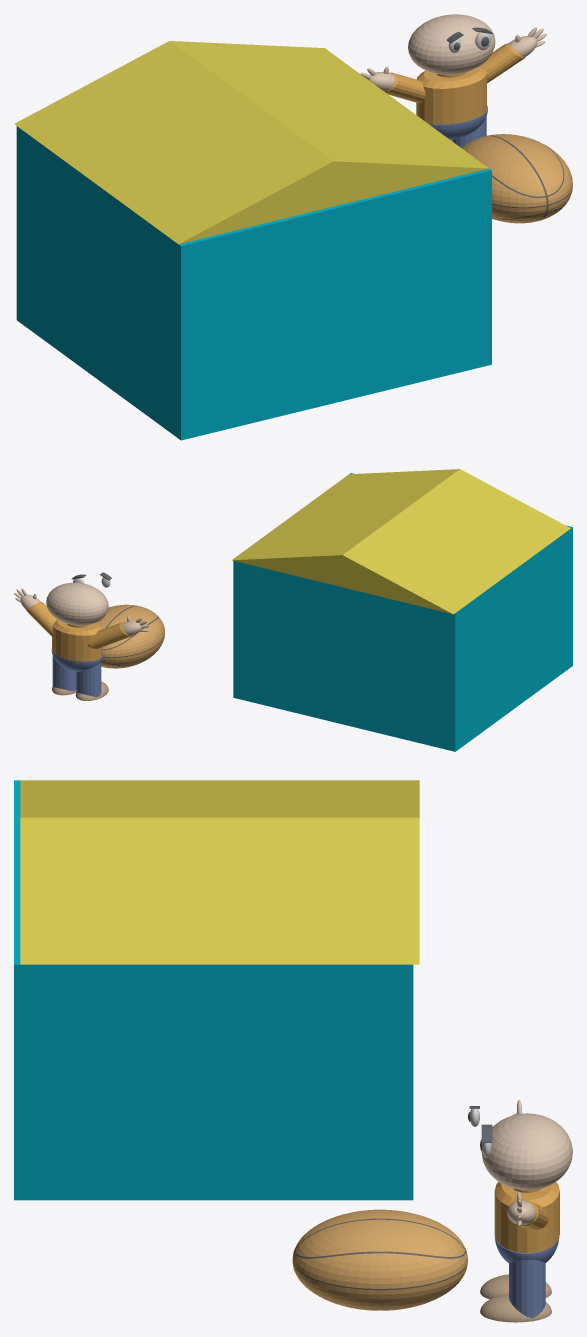
3 views of the same model, one above another, from view 1: azimuth 30°, elevation 25°; view 2: azimuth 150°, elevation 25°; view 3: azimuth 270°, elevation 25° (orthographic). The views are drawn at different scales.
Parts seen in each view (by area): view 1: Mesh_Mesh_head_geo.001_lambert2SG.001; view 2: Mesh_Mesh_head_geo.001_lambert2SG.001; view 3: Mesh_Mesh_head_geo.001_lambert2SG.001.
Boxes of the visible parts, x1,y1,x2,y2 form: Mesh_Mesh_head_geo.001_lambert2SG.001: (14, 14, 572, 440); Mesh_Mesh_head_geo.001_lambert2SG.001: (14, 469, 572, 751); Mesh_Mesh_head_geo.001_lambert2SG.001: (14, 780, 572, 1322).
Bounding box in the file's own units: 0.133 × 0.053 × 0.0924.
